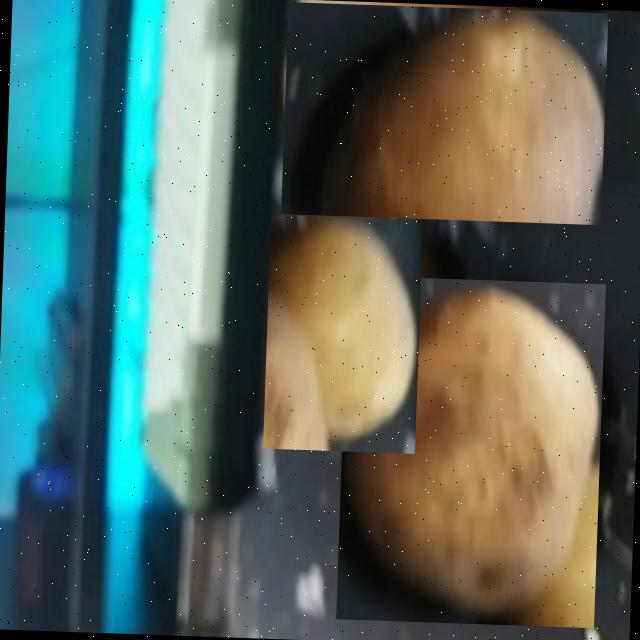Damaged potato: (334, 275, 604, 628), (280, 2, 607, 225)
Potato: (262, 214, 422, 453)
